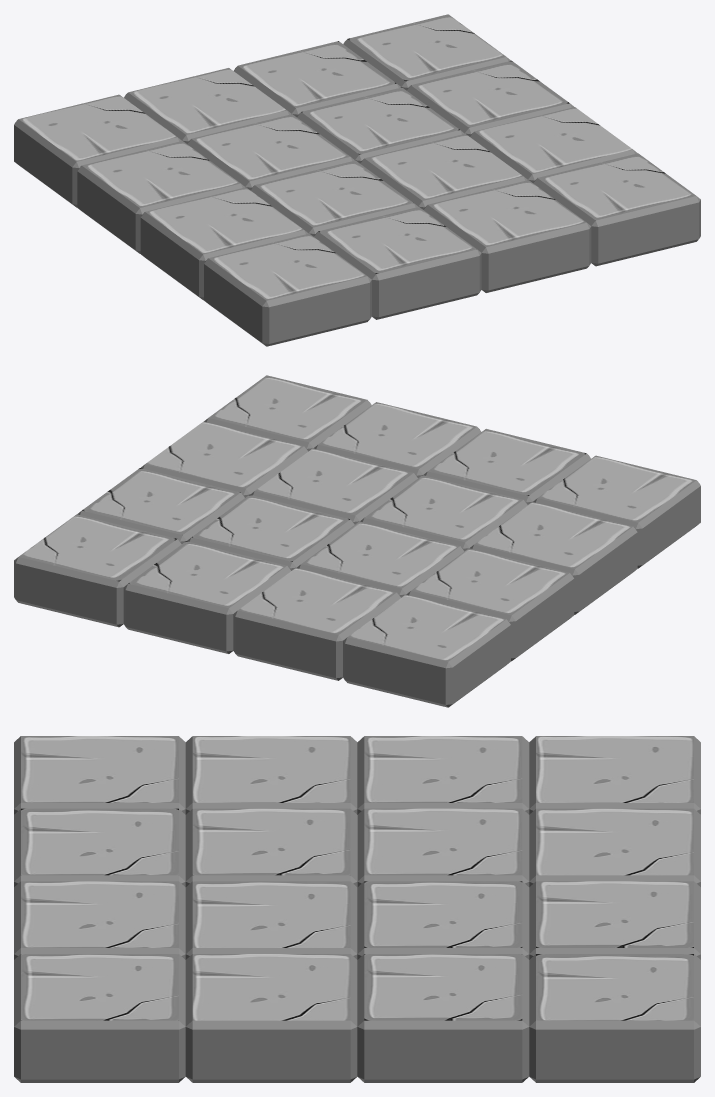
File: M_Pavimento_Sotterraneo.fbx
The picture shows the model from 3 angles, top to bottom: view 1: azimuth 30°, elevation 25°; view 2: azimuth 150°, elevation 25°; view 3: azimuth 270°, elevation 25°; orthographic projection. The views are drawn at different scales.
Parts seen in each view (by area): view 1: Pavimento; view 2: Pavimento; view 3: Pavimento.
Boxes of the visible parts, <box> form: Pavimento: <box>14,14,700,346</box>; Pavimento: <box>14,375,700,707</box>; Pavimento: <box>14,736,700,1082</box>.
Bounding box in the file's own units: 10 × 1 × 10.
